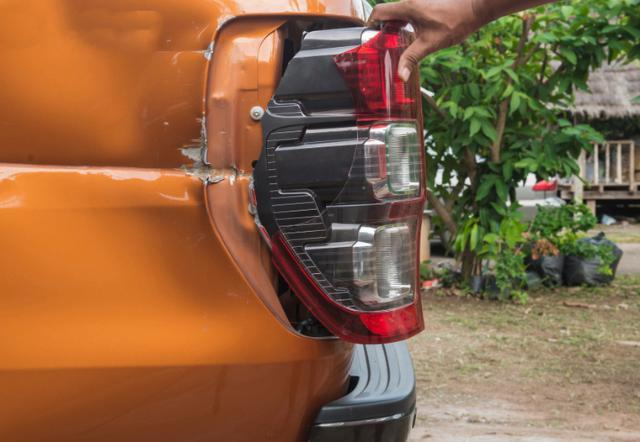Fender: (0, 94, 220, 242)
Light: (218, 22, 448, 337)
